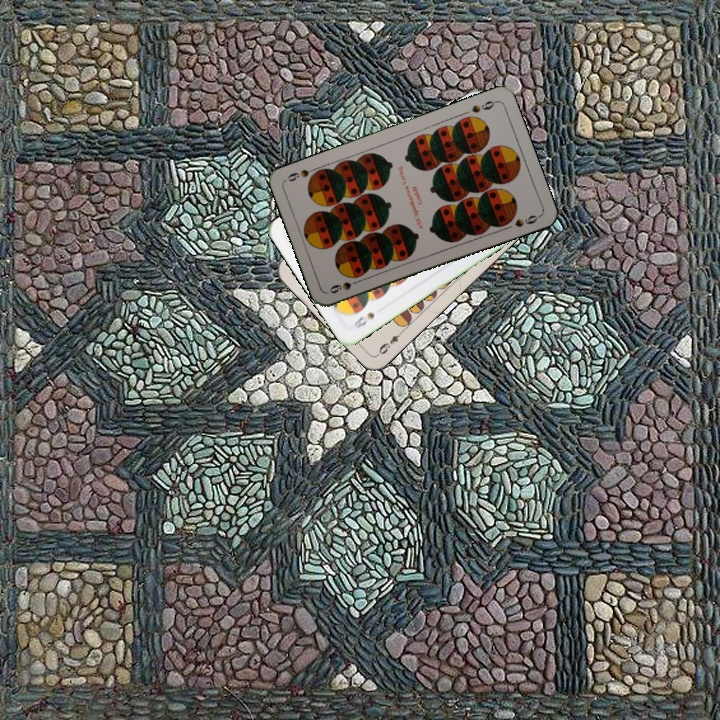E9: (374, 326, 406, 358)
S8: (350, 308, 378, 331)
S9: (325, 275, 364, 296), (467, 97, 499, 116)
